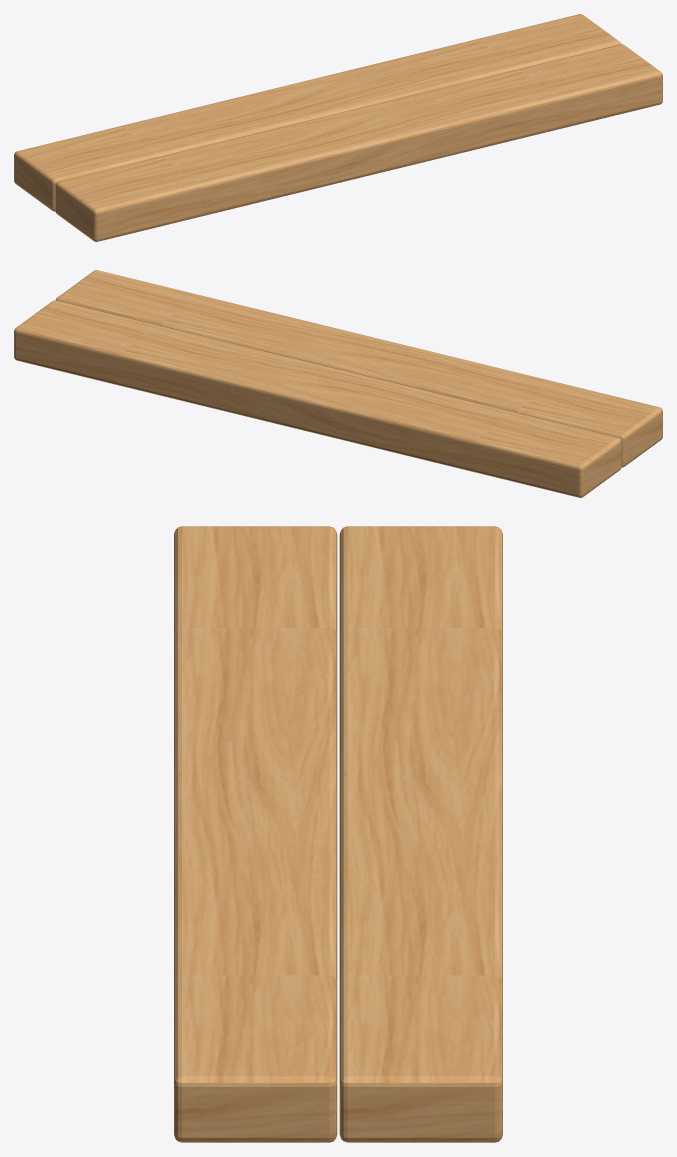
Rendered from plank_2m.glb.
3 views of the same model, one above another, from view 1: azimuth 30°, elevation 25°; view 2: azimuth 150°, elevation 25°; view 3: azimuth 270°, elevation 25° (orthographic). The views are drawn at different scales.
Parts seen in each view (by area): view 1: plank_2m; view 2: plank_2m; view 3: plank_2m.
Part boxes in pixels (box(x1,y1,x2,y2)): plank_2m: box(14, 14, 662, 241); plank_2m: box(14, 270, 662, 497); plank_2m: box(174, 526, 502, 1142).
Size of the model in its own units: 2 by 0.11 by 0.5.
Materials: 2 (1 with a texture image).
